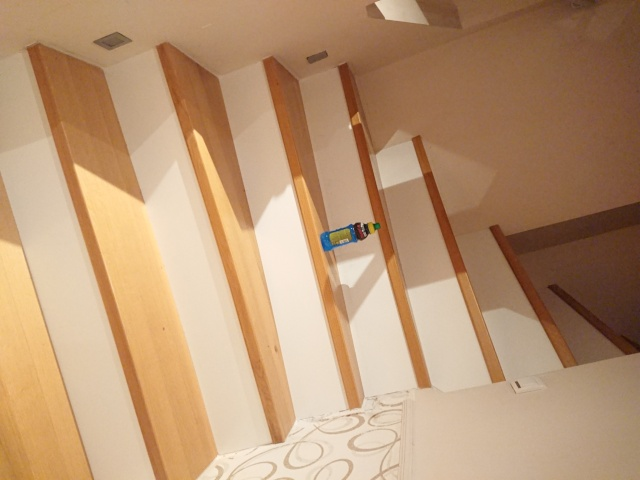Vindi Iso Sport Forest Strawberries 500mL: (319, 220, 382, 251)
